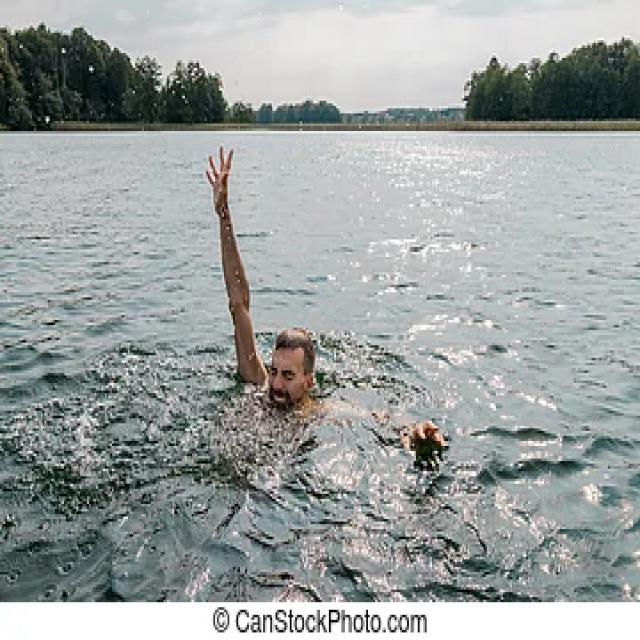drowning: (157, 132, 463, 498)
